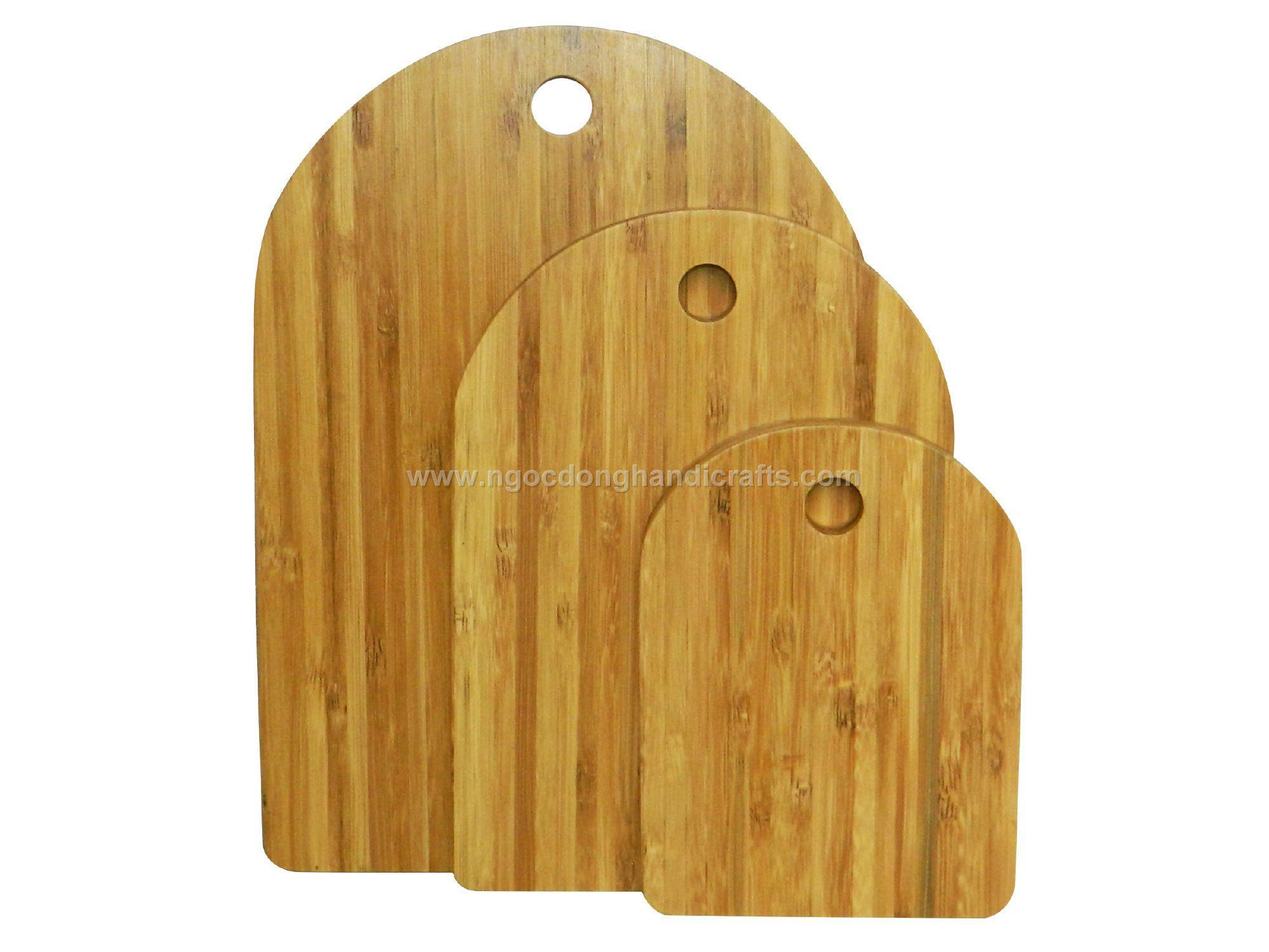gloved_hand: (620, 402, 1049, 936)
